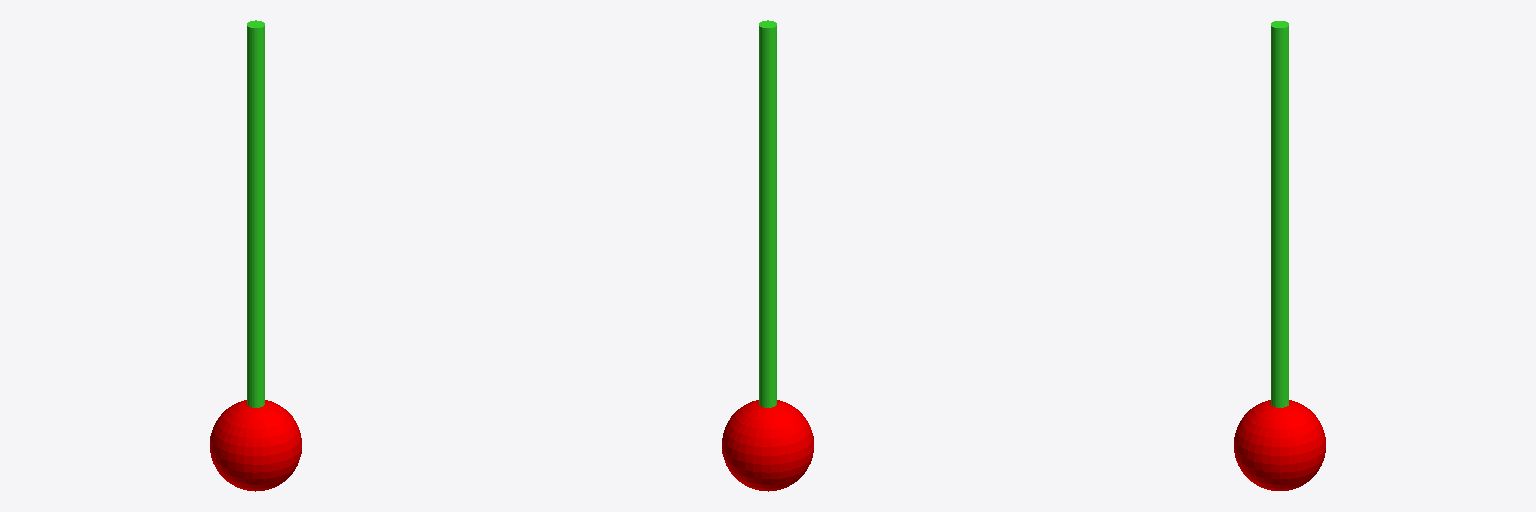
robot.urdf — cluster:
<?xml version="1.0"?>
<robot name="cluster">
  <link name="world"/>
  <material name="Blue">
    <color rgba="0.28 0.52 0.92 1.0"/>0
  </material>
  <material name="Red">
    <color rgba="0.9 0.2 0.2 1.0"/>0
  </material>
  <material name="green">
    <color rgba="0.25 0.9 0.2 1.0"/>0
  </material>

  <link name="yball_stem1">
    <gravity>1</gravity>
    <inertial>
      <origin xyz="0 0 0" rpy="0 0 0"/>
      <mass value=".00001"/>
      <inertia ixx="0.0000004" ixy="0.0" ixz="0.0" iyy="0.0000004" iyz="0.0" izz="0.0000004" />
    </inertial>
    <visual><geometry><sphere radius=".00001"/></geometry></visual>
    <collision><geometry><sphere radius=".00001"/></geometry></collision>
  </link>

<!--   <joint name="stem1y" type="continuous" >
    <parent link="world" />
    <child link="yball_stem1" />
    <origin xyz="0 0 0" rpy="0 0 0"/>
    <axis xyz="1 1 1" />
    <dynamics damping="0.0001" friction="0.0002"/>
    <limit effort="1" velocity="0.1" />
  </joint> -->

  <joint name="stem1y" type="revolute" >
    <parent link="world" />
    <child link="yball_stem1" />
    <origin xyz="0 0 0" rpy="0 0 0"/>
    <axis xyz="1 0 0" />
    <dynamics damping="0.0001" friction="0.0002"/>
    <limit effort="1" velocity="0.1" />
  </joint>
  <link name="inner_joint_1"/>
  <joint name="stem2y" type="revolute" >
    <parent link="yball_stem1" />
    <child link="inner_joint_1" />
    <origin xyz="0 0 0" rpy="0 0 0"/>
    <axis xyz="0 1 0" />
    <dynamics damping="0.0001" friction="0.0002"/>
    <limit effort="1" velocity="0.1" />
  </joint>
  <link name="inner_joint_2"/>
  <joint name="stem3y" type="revolute" >
    <parent link="inner_joint_1" />
    <child link="inner_joint_2" />
    <origin xyz="0 0 0" rpy="0 0 0"/>
    <axis xyz="0 0 1" />
    <dynamics damping="0.0001" friction="0.0002"/>
    <limit effort="1" velocity="0.1" />
  </joint>



  <link name="xball_stem1">
    <gravity>1</gravity>
    <inertial>
      <origin xyz="0 0 0" rpy="0 0 0"/>
      <mass value=".00001"/>
      <inertia ixx="0.0000004" ixy="0.0" ixz="0.0" iyy="0.0000004" iyz="0.0" izz="0.0000004" />
    </inertial>
    <visual><geometry><sphere radius=".00001"/></geometry></visual>
    <collision><geometry><sphere radius=".00001"/></geometry></collision>
  </link>

  <joint name="stem1x" type="continuous" >
    <parent link="yball_stem1"/>
    <child link="xball_stem1"/>
    <origin xyz="0 0 0" rpy="0 0 0"/> 
    <axis xyz="1 1 1" />
    <dynamics damping="0.0001" friction="0.0002" />
    <limit effort="1" velocity="0.1" />
  </joint>

  <!-- Define stem of straw1 -->
  <link name="stem1">
    <inertial>
      <origin xyz="0 0 0" rpy="0 0 0"/>
      <mass value="0.0002"/>
      <inertia
        ixx="0.0000000005" ixy="0.0" ixz="0.0"
        iyy="0.0000000005" iyz="0.0" 
        izz="0.0000000005"/>
    </inertial>
    <collision>
      <geometry>
  		<cylinder length="0.15" radius="0.003"/>
      </geometry>
      <material name="green"/>
      <origin xyz="0 0 -0.075" rpy="0 0 0"/>
    </collision>
    <visual>
      <geometry>
  	<cylinder length="0.15" radius="0.003"/>
      </geometry>
      <material name="green"/>
      <origin xyz="0 0 -0.075" rpy="0 0 0"/>
    </visual>
  </link>
<!--   <gazebo reference="stem1">
    <mu1>0.01</mu1>
    <mu2>0.01</mu2>
    <selfCollide>true</selfCollide>
    <maxContacts>2</maxContacts>
    <minDepth>0</minDepth>
    <maxVel>0.01</maxVel>
    <kp  value="1" />
    <kd  value="0.1" />  
    <material>Gazebo/Green</material>
  </gazebo> -->

  <joint name="xball_stem1" type="fixed">
    <parent link="xball_stem1"/>
    <child link="stem1"/>
    <origin xyz="0 0 0" rpy="0 0 0"/>  
  </joint> 

  <!-- Define straw1 -->
  <link name="straw1">
    <gravity>1</gravity>
    <inertial>
      <origin xyz="0 0 0" rpy="0 0 0"/>
      <mass value="0.0002"/>
      <inertia
        ixx="0.00000018" ixy="0.0" ixz="0.0"
        iyy="0.00000018" iyz="0.0" 
        izz="0.00000018"/>
    </inertial>
    <collision>
      <geometry>
      	<sphere radius="0.015"/>
      </geometry>
    </collision>
    <visual>
      <geometry>
  		<sphere radius="0.015"/>
      </geometry>
      <material name="Red">
        <color rgba="1 0 0 1"/>
      </material>
    </visual>
  </link>
<!--   <gazebo reference="straw1">
    <mu1>0.01</mu1>
    <mu2>0.01</mu2>
    <selfCollide>true</selfCollide>
    <maxContacts>2</maxContacts>
    <minDepth>0</minDepth>
    <maxVel>0.01</maxVel>
    <kp  value="1" />
    <kd  value="0.1" />  
    <material>Gazebo/Red</material>
  </gazebo> -->

  <joint name="straw1_stem1" type="fixed"> 
    <parent link="stem1"/>
    <child link="straw1"/>
    <origin xyz="0 0 -0.15" rpy="0 0 0"/> 
  </joint> 

</robot>

--- Facts derived from the render (not from the file) ---
3 views of the same robot in one strip: view 1: azimuth 30°, elevation 25°; view 2: azimuth 150°, elevation 25°; view 3: azimuth 270°, elevation 25° (orthographic).
Robot: cluster — 7 links, 6 joints (3 revolute, 1 continuous, 2 fixed); root link world; default pose: every joint at zero.
Links seen in each view (by area): view 1: stem1, straw1; view 2: stem1, straw1; view 3: stem1, straw1.
Link boxes in pixels (x1,y1,x2,y2): stem1: (247, 20, 264, 407); straw1: (210, 400, 301, 491); stem1: (759, 20, 776, 407); straw1: (722, 400, 813, 491); stem1: (1271, 21, 1288, 407); straw1: (1234, 400, 1325, 490).
Size in the robot's own frame: 0.03 by 0.03 by 0.165 metres.
Geometry: primitives only (box / cylinder / sphere), no mesh files.